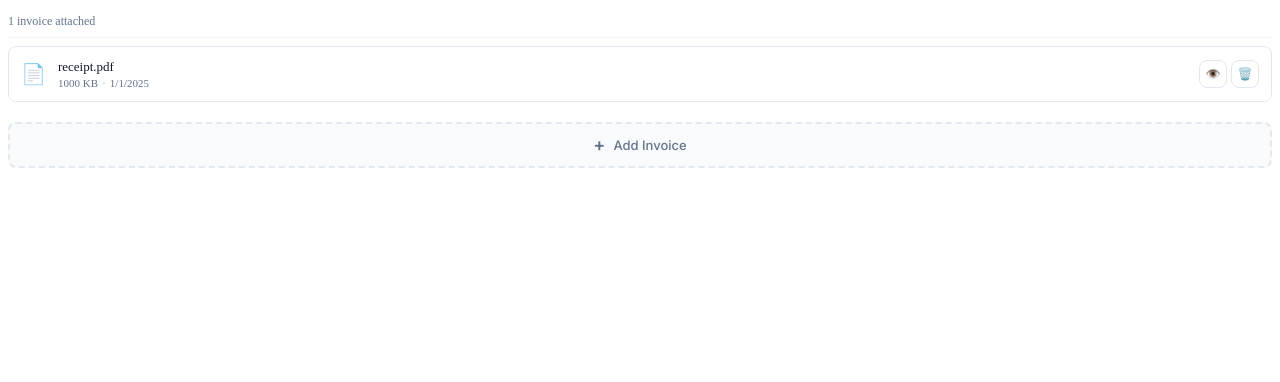
Scenario: InvoiceUpload Component › Add Invoice Button Appearance › hides upload form when Cancel is clicked
Click the button with aria-label "add another invoice": (640, 145) top-left (8, 122), bottom-right (1272, 168)
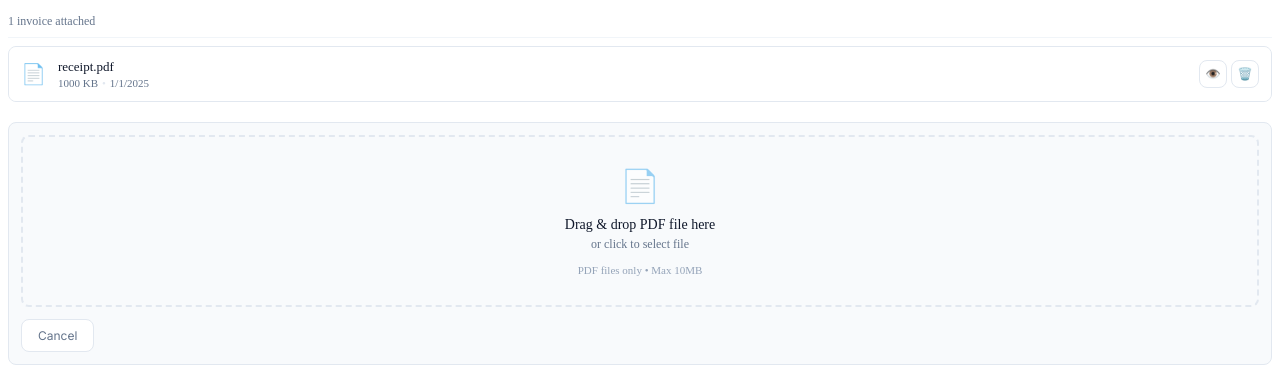
Click the button with aria-label "cancel adding invoice": (58, 336) top-left (21, 319), bottom-right (94, 352)
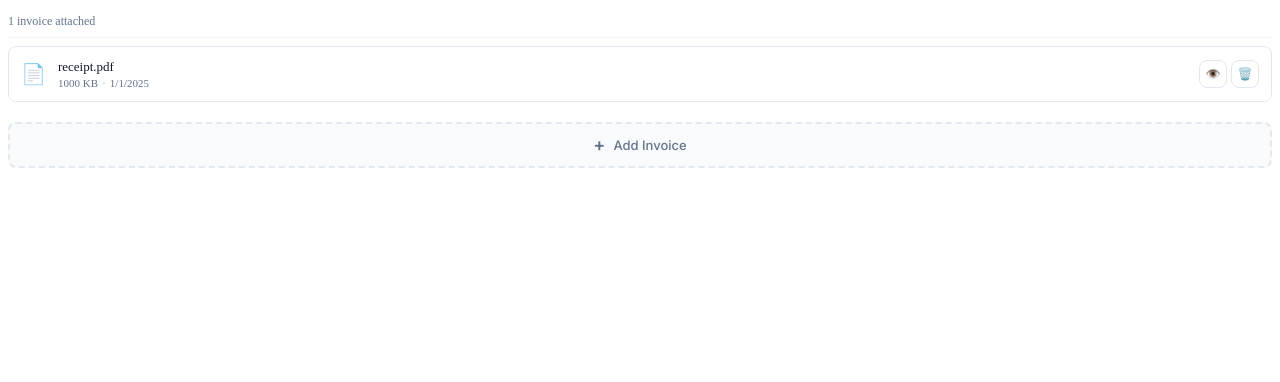
Now the button with aria-label "add another invoice" is shown, box top-left (8, 122), bottom-right (1272, 168)
